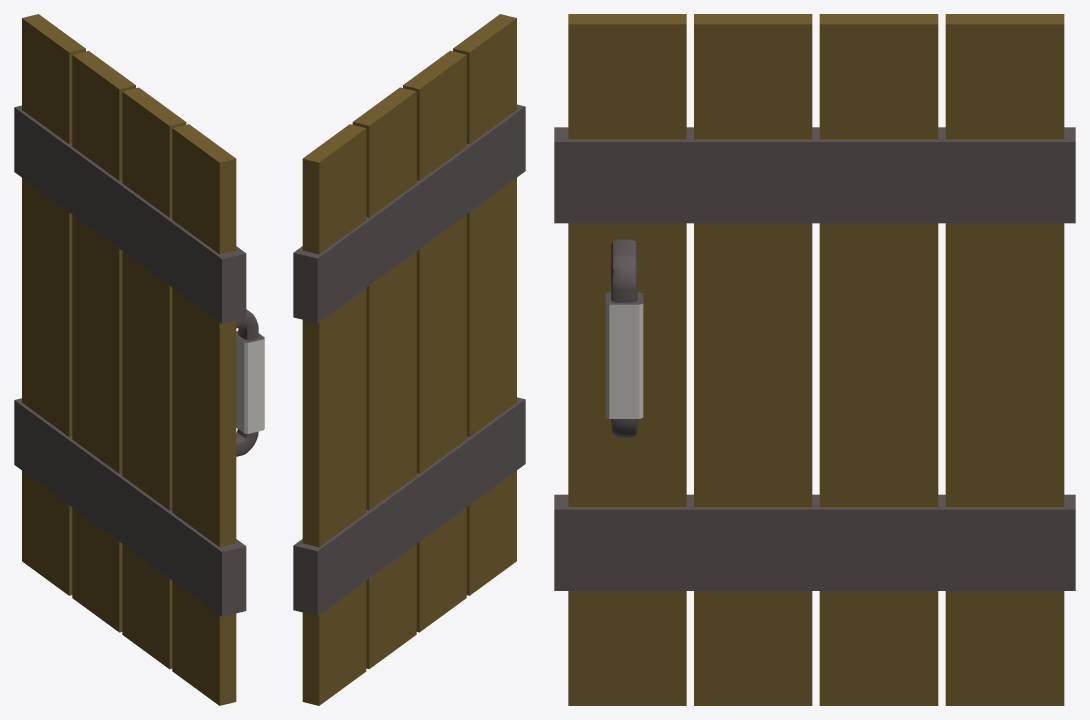
The model's file is CabinetDoor.fbx.
3 views of the same model, side by side, from view 1: azimuth 30°, elevation 25°; view 2: azimuth 150°, elevation 25°; view 3: azimuth 270°, elevation 25° (orthographic). The views are drawn at different scales.
Visible parts, largest first — view 1: CabinetDoor03; view 2: CabinetDoor03; view 3: CabinetDoor03.
Part boxes in pixels (x1,y1,x2,y2): CabinetDoor03: (14, 14, 264, 705); CabinetDoor03: (293, 14, 525, 705); CabinetDoor03: (554, 14, 1075, 705).
Bounding box in the file's own units: 1.07 × 8.61 × 5.97.
